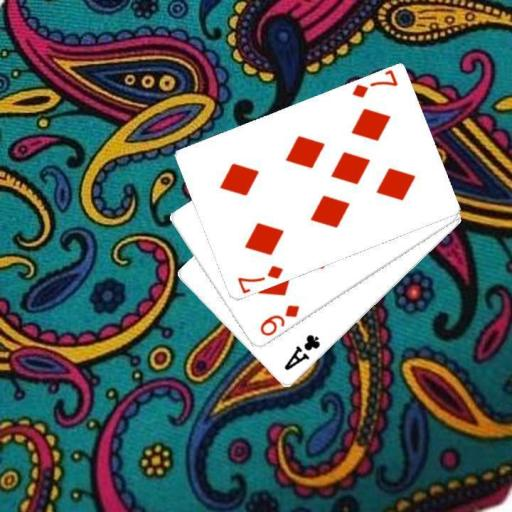card-corner: (280, 332, 322, 372), (234, 262, 285, 294), (256, 302, 301, 338), (348, 69, 399, 100)
